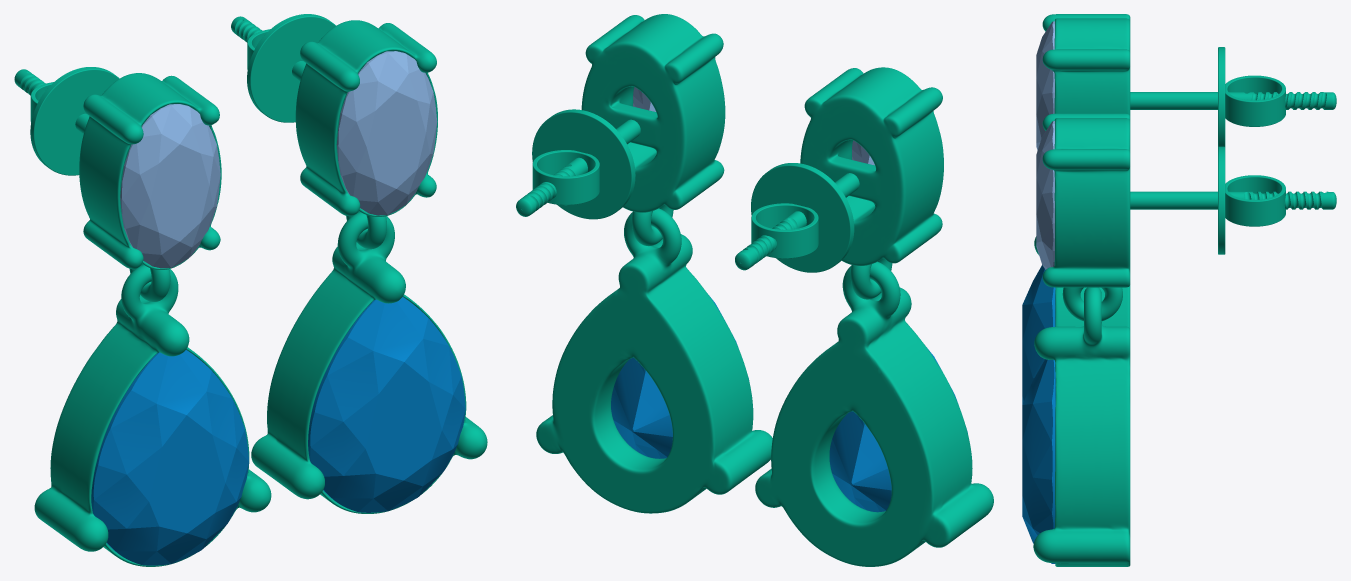
The picture shows the model from 3 angles, left to right: view 1: azimuth 30°, elevation 25°; view 2: azimuth 150°, elevation 25°; view 3: azimuth 270°, elevation 25°; orthographic projection. The views are drawn at different scales.
Visible parts, largest first — view 1: for render.3dm, Diamond_Pear (×2), Diamond_Oval (×2); view 2: for render.3dm, Diamond_Pear (×2); view 3: for render.3dm, Diamond_Pear (×2), Diamond_Oval (×2).
Part boxes in pixels (x1=…): for render.3dm: x1=14, y1=14, x2=487, y2=566; Diamond_Pear (×2): x1=91, y1=297, x2=465, y2=565; Diamond_Oval (×2): x1=120, y1=51, x2=437, y2=268; for render.3dm: x1=516, y1=14, x2=993, y2=566; Diamond_Pear (×2): x1=611, y1=295, x2=967, y2=512; for render.3dm: x1=1033, y1=14, x2=1336, y2=566; Diamond_Pear (×2): x1=1022, y1=265, x2=1055, y2=563; Diamond_Oval (×2): x1=1036, y1=21, x2=1054, y2=269.
Size of the model in its own units: 2.45 by 2.65 by 1.73.
